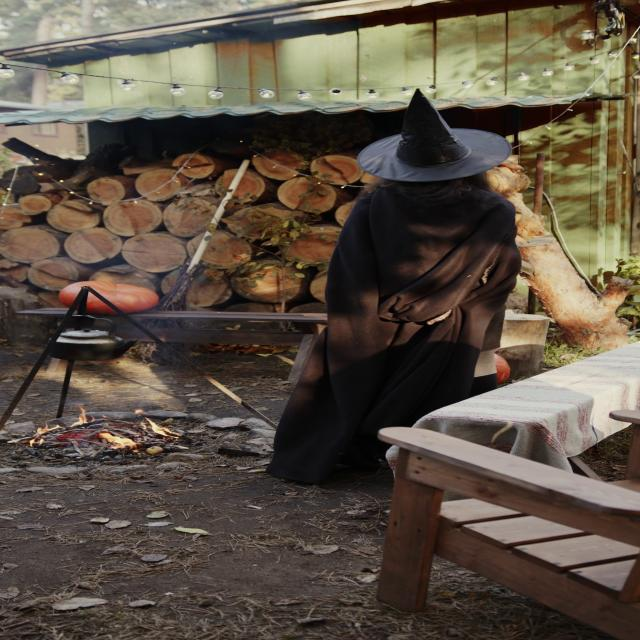Fire: (30, 408, 182, 451)
